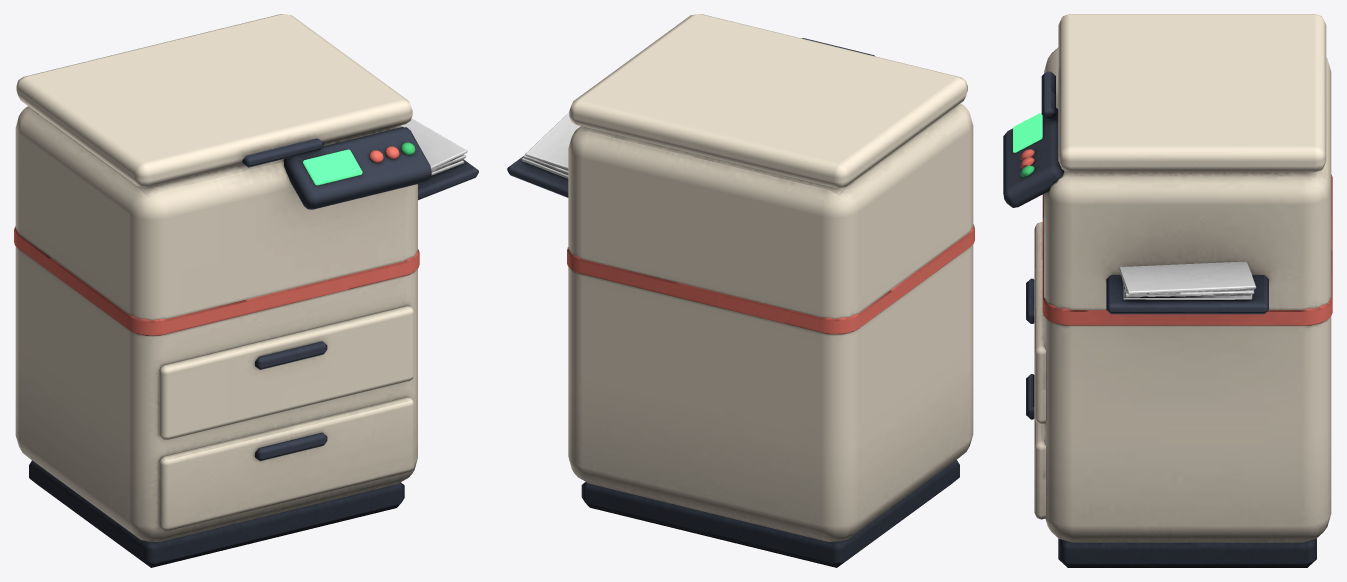
File: printer_copier.glb
3 views of the same model, side by side, from view 1: azimuth 30°, elevation 25°; view 2: azimuth 150°, elevation 25°; view 3: azimuth 270°, elevation 25° (orthographic). The views are drawn at different scales.
Visible parts, largest first — view 1: printer_copier; view 2: printer_copier; view 3: printer_copier.
Part boxes in pixels (<box>): printer_copier: <box>14,14,478,567</box>; printer_copier: <box>507,14,974,567</box>; printer_copier: <box>1003,14,1332,567</box>.
Bounding box in the file's own units: 0.9323 × 0.98 × 0.6881.
6 materials, 5 textured.
